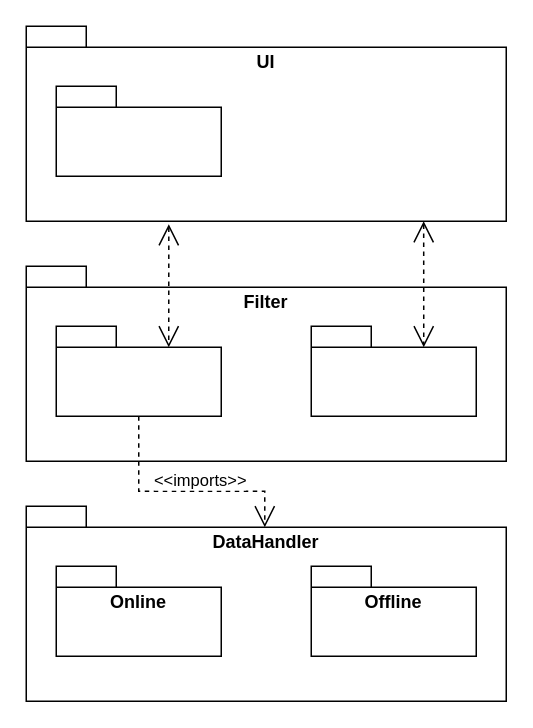
Image size: 533x728. Some labels were removed from this diagram. The shapes that lost their labels are listed below. From the top down, each one's centre as x and y in pixels, then its label:
the point at 138,130: InputParameter
the point at 138,370: Conditions
the point at 393,370: Operators
